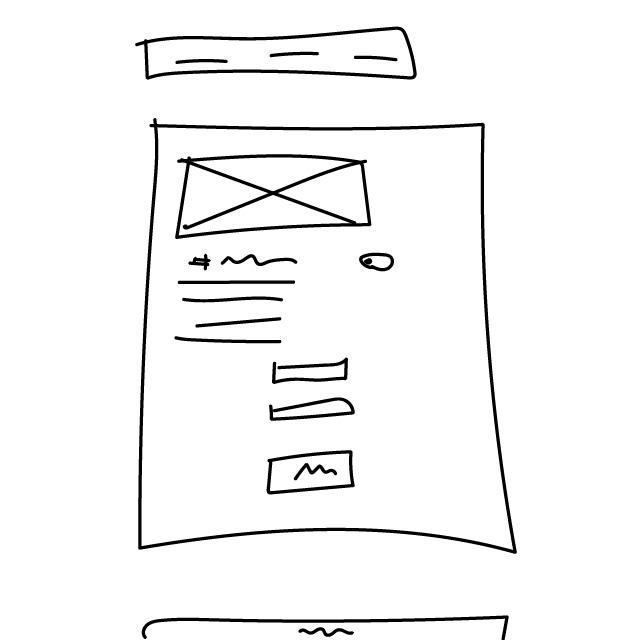button: (265, 448, 361, 497)
checkbox: (358, 252, 399, 275)
container: (124, 107, 536, 581)
footer: (134, 606, 520, 640)
frame: (174, 149, 379, 240)
heading: (184, 247, 306, 276)
input: (270, 393, 361, 423), (271, 355, 356, 387)
nav: (134, 26, 427, 86)
text: (177, 278, 298, 351)
